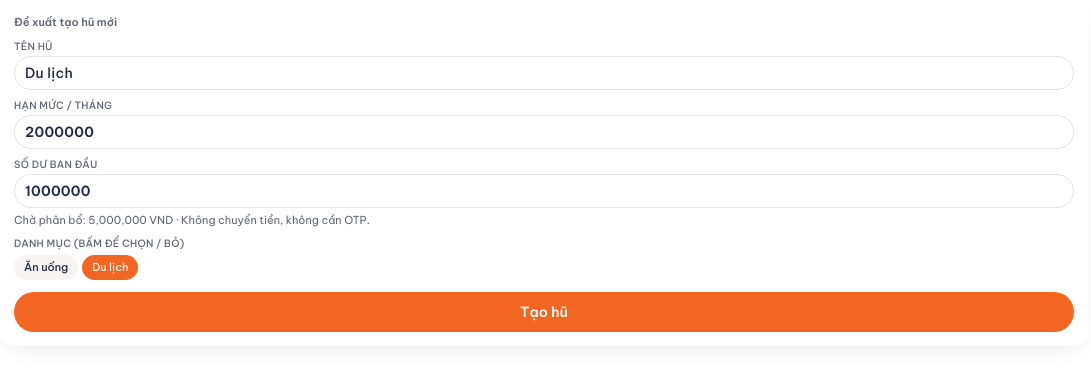
it: AgentJarFormCard — create with an opening balance › an EMPTY balance is rejected — never read as 0 (invariant #6)
This screenshot has width=1091, height=390.
Clear the field labelled "Số dư ban đầu" at (544, 190), box [14,174,1074,208]
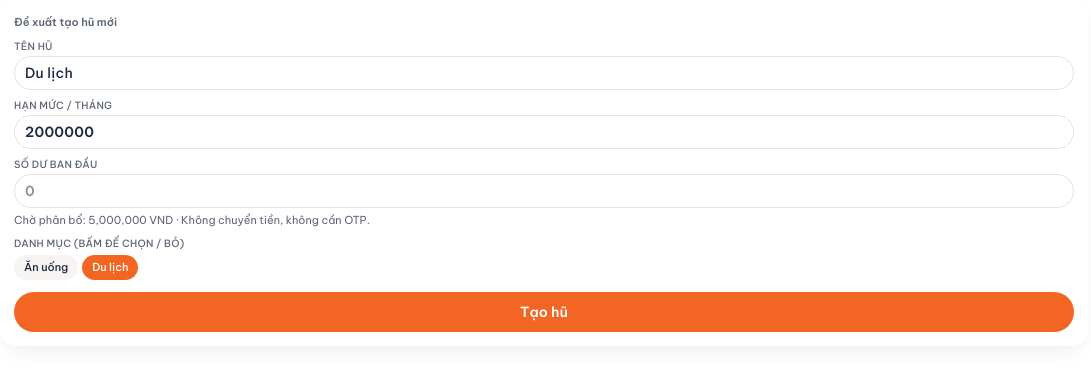
Click the button "Tạo hũ" at (544, 312), box [14,292,1074,332]
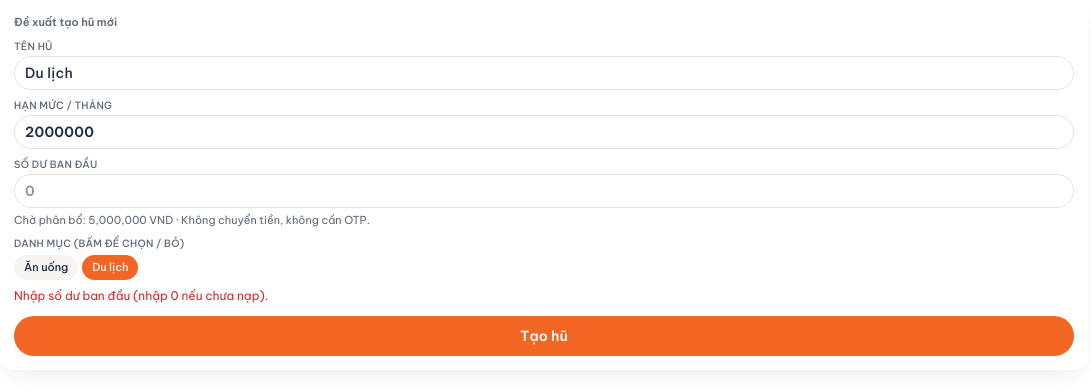
Expected: the message reads "Nhập số dư ban đầu (nhập 0 nếu chưa nạp).", [14,288,268,302]
